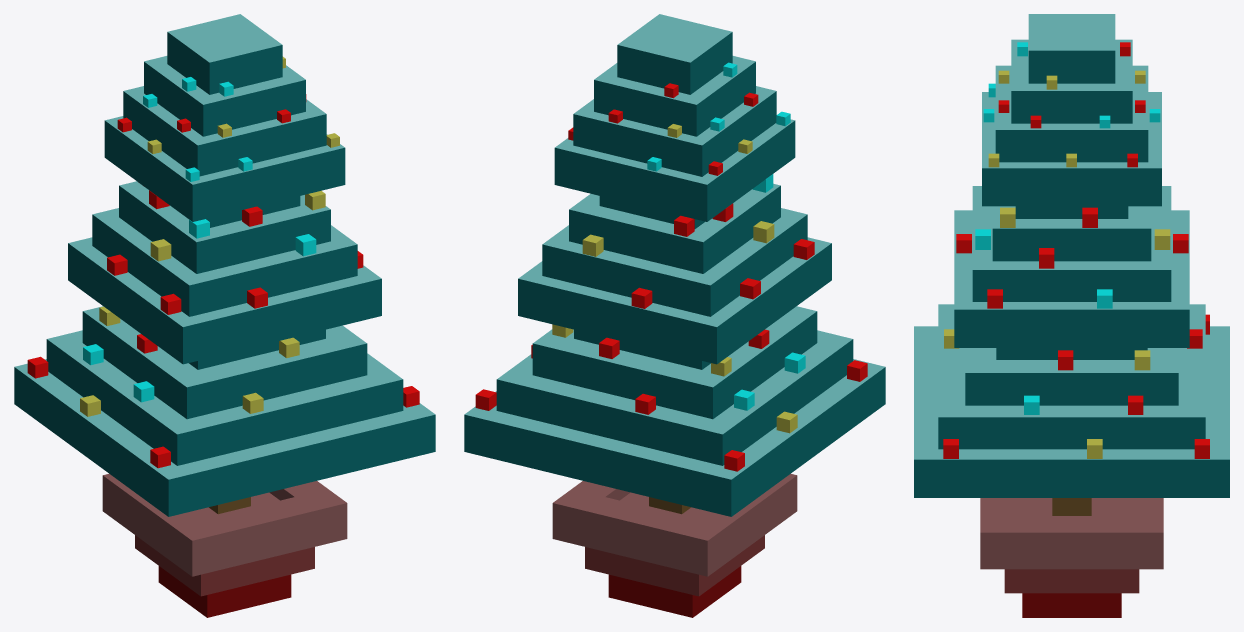
The model's file is 051 Xmas_Tree.fbx.
3 views of the same model, side by side, from view 1: azimuth 30°, elevation 25°; view 2: azimuth 150°, elevation 25°; view 3: azimuth 270°, elevation 25° (orthographic). The views are drawn at different scales.
Visible parts, largest first — view 1: Lowpoly_Christmas_Pack_051:Lowpoly_Christmas_Pack_046:pCube6; view 2: Lowpoly_Christmas_Pack_051:Lowpoly_Christmas_Pack_046:pCube6; view 3: Lowpoly_Christmas_Pack_051:Lowpoly_Christmas_Pack_046:pCube6.
Boxes of the visible parts, x1,y1,x2,y2 form: Lowpoly_Christmas_Pack_051:Lowpoly_Christmas_Pack_046:pCube6: (14,14,435,617); Lowpoly_Christmas_Pack_051:Lowpoly_Christmas_Pack_046:pCube6: (464,14,885,617); Lowpoly_Christmas_Pack_051:Lowpoly_Christmas_Pack_046:pCube6: (914,14,1229,617).
Bounding box in the file's own units: 2.34 × 4.61 × 2.34.
